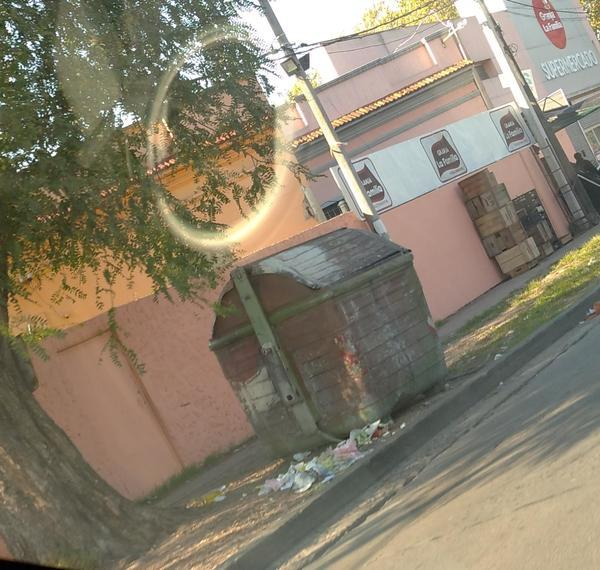Dechets: (258, 453, 346, 495), (331, 419, 397, 462), (206, 480, 232, 511), (583, 291, 600, 326)
Trash: (209, 228, 447, 454)
